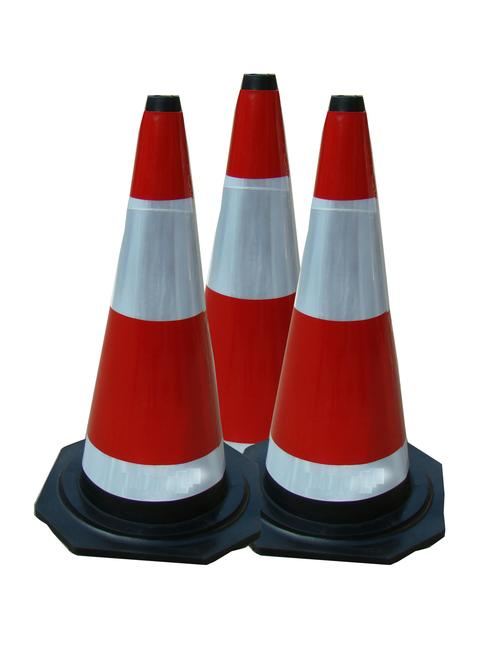traffic_cone: (22, 73, 261, 572), (261, 88, 464, 561), (167, 55, 325, 482)
